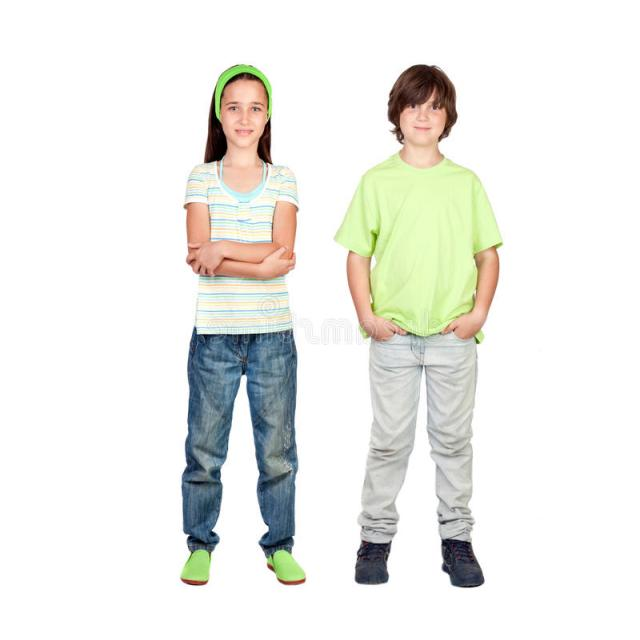child: (328, 49, 514, 601), (142, 54, 328, 606)
